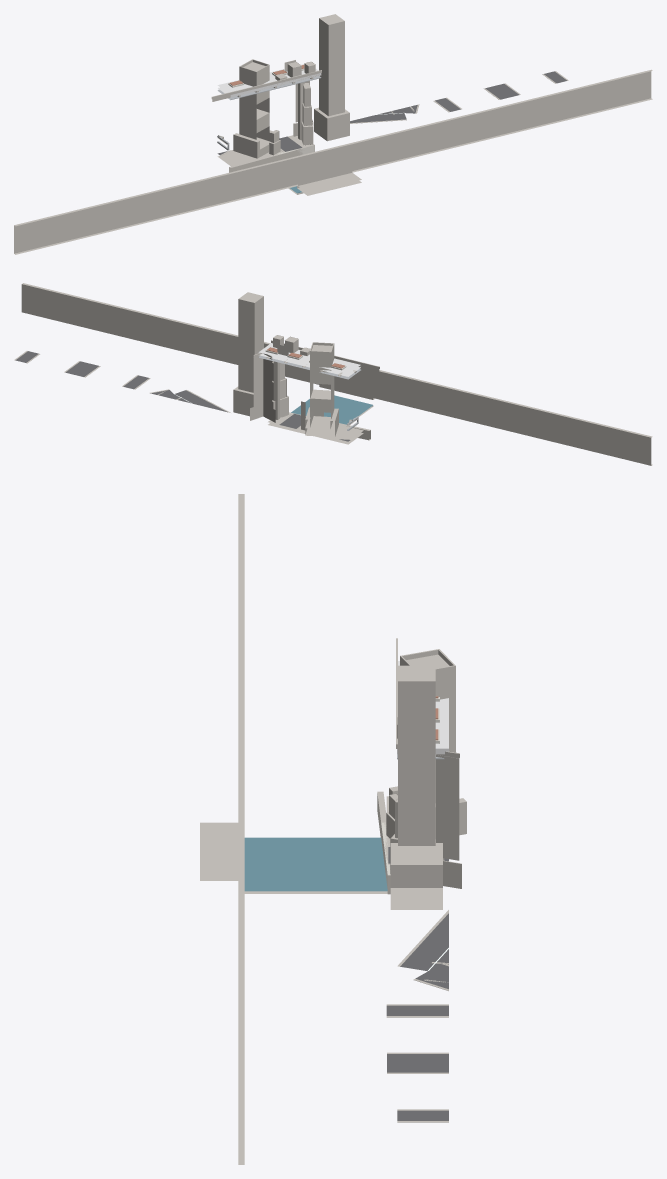
File: tile_3_0.glb
3 renders of one model, top to bottom at view 1: azimuth 30°, elevation 25°; view 2: azimuth 150°, elevation 25°; view 3: azimuth 270°, elevation 25°, orthographic. The views are drawn at different scales.
Parts seen in each view (by area): view 1: t3_0_hlod, t3_0_c13_2_0_road, t3_0_c10_0_0_concrete, t3_0_c11_0_0_concrete, t3_0_c13_2_0_concrete, t3_0_c11_3_1_panel_white; view 2: t3_0_hlod, t3_0_c13_2_0_road, t3_0_c11_3_1_panel_white, t3_0_c13_2_0_concrete, t3_0_c10_1_-1_water, t3_0_c10_0_0_concrete, t3_0_c10_2_-1_concrete; view 3: t3_0_hlod, t3_0_c13_2_0_road, t3_0_c10_1_-1_water, t3_0_c11_0_-1_water, t3_0_c11_1_-1_water, t3_0_c11_0_0_concrete, t3_0_c10_0_0_concrete, t3_0_c13_2_0_concrete.
Part boxes in pixels (x1,y1,x2,y2): t3_0_hlod: (14, 14, 652, 254); t3_0_c13_2_0_road: (217, 71, 567, 155); t3_0_c10_0_0_concrete: (292, 151, 334, 195); t3_0_c11_0_0_concrete: (325, 144, 361, 189); t3_0_c13_2_0_concrete: (218, 71, 568, 155); t3_0_c11_3_1_panel_white: (217, 64, 321, 97); t3_0_hlod: (21, 283, 652, 465); t3_0_c13_2_0_road: (15, 351, 350, 441); t3_0_c11_3_1_panel_white: (258, 343, 361, 376); t3_0_c13_2_0_concrete: (14, 351, 358, 439); t3_0_c10_1_-1_water: (324, 402, 367, 424); t3_0_c10_0_0_concrete: (345, 368, 374, 410); t3_0_c10_2_-1_concrete: (322, 424, 363, 444); t3_0_hlod: (238, 494, 466, 1164); t3_0_c13_2_0_road: (386, 847, 448, 1120); t3_0_c10_1_-1_water: (262, 837, 384, 863); t3_0_c11_0_-1_water: (262, 864, 324, 891); t3_0_c11_1_-1_water: (324, 864, 386, 891); t3_0_c11_0_0_concrete: (200, 792, 262, 893); t3_0_c10_0_0_concrete: (200, 766, 244, 848); t3_0_c13_2_0_concrete: (386, 845, 448, 1122).
Size of what is drawn, in the model's own units: 1403 by 260 by 257.
